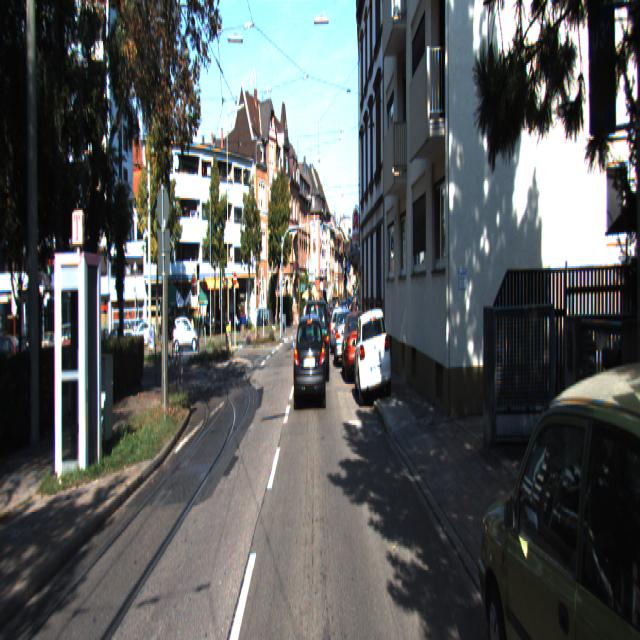Car: (475, 317, 640, 638), (353, 304, 391, 410), (293, 309, 326, 413), (341, 309, 371, 387), (304, 299, 328, 387), (333, 309, 355, 372), (172, 316, 199, 352)
